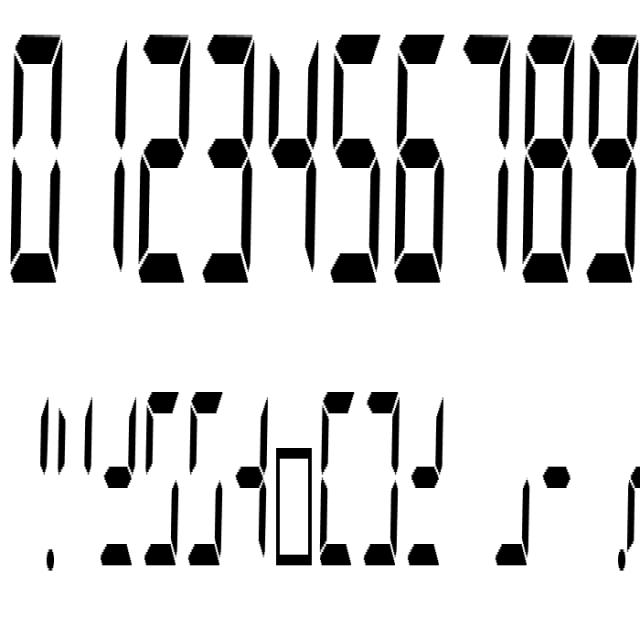-: (540, 457, 574, 504)
.: (44, 541, 57, 579), (616, 540, 627, 576)
0: (8, 21, 68, 291)
1: (108, 28, 130, 275)
2: (137, 15, 191, 292)
3: (199, 17, 258, 295)
4: (265, 34, 323, 274)
5: (328, 20, 383, 292)
6: (391, 22, 449, 290)
7: (461, 21, 512, 275)
8: (520, 31, 575, 288)
9: (584, 29, 638, 288)
